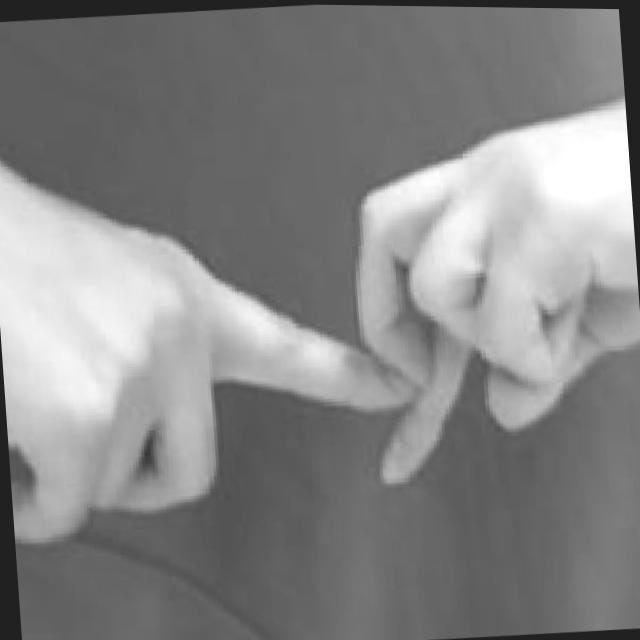R: (0, 80, 640, 557)
